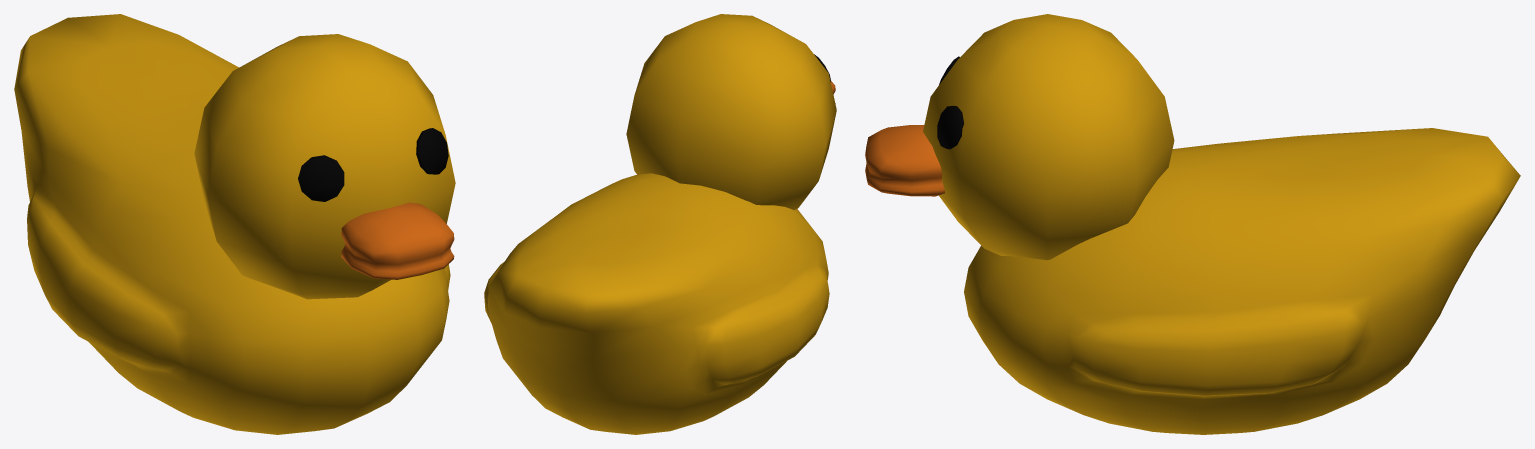
The model's file is NewDuck.fbx.
3 views of the same model, side by side, from view 1: azimuth 30°, elevation 25°; view 2: azimuth 150°, elevation 25°; view 3: azimuth 270°, elevation 25° (orthographic). The views are drawn at different scales.
Visible parts, largest first — view 1: Duck; view 2: Duck; view 3: Duck.
Boxes of the visible parts, x1=… form: Duck: x1=14, y1=14, x2=455, y2=434; Duck: x1=484, y1=14, x2=836, y2=434; Duck: x1=865, y1=14, x2=1520, y2=434.
Bounding box in the file's own units: 181 × 210 × 320.
